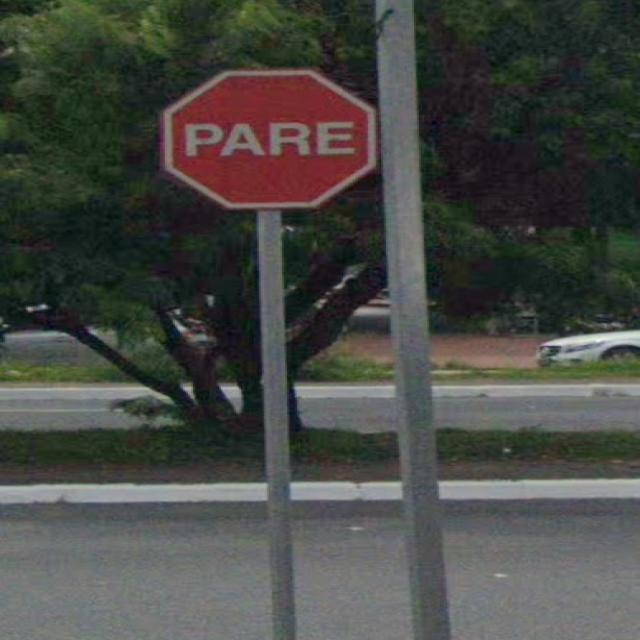stop: (130, 50, 396, 227)
